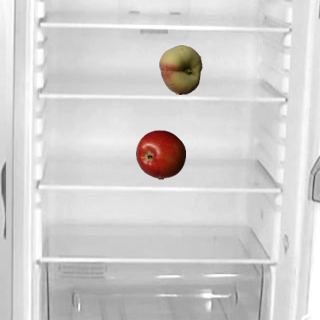Apple Braeburn: (135, 129, 185, 179)
Peach Flat: (155, 44, 205, 94)
